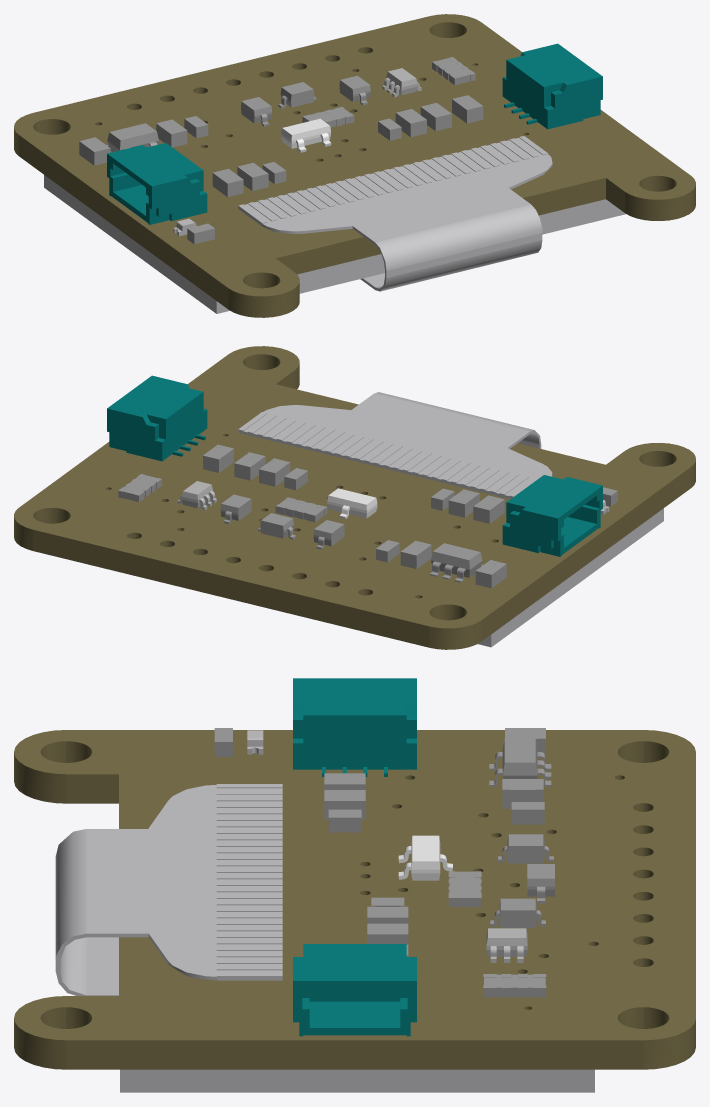
The model's file is ada-938.glb.
3 renders of one model, top to bottom at view 1: azimuth 30°, elevation 25°; view 2: azimuth 150°, elevation 25°; view 3: azimuth 270°, elevation 25°, orthographic. The views are drawn at different scales.
Visible parts, largest first — view 1: 0.16666666666666666_0.16666666666666666_0.08333333333333333_, 0.5833333333333334_0.5833333333333334_0.5833333333333334_0.8, 0_0.25_0.25_0, 0.3333333333333333_0.3333333333333333_0.3333333333333333_0, 0.9166666666666666_0.9166666666666666_0.9166666666666666_0.8, 0.5_0.5_0.5_0.85; view 2: 0.16666666666666666_0.16666666666666666_0.08333333333333333_, 0.5833333333333334_0.5833333333333334_0.5833333333333334_0.8, 0_0.25_0.25_0, 0.3333333333333333_0.3333333333333333_0.3333333333333333_0, 0.9166666666666666_0.9166666666666666_0.9166666666666666_0.8, 0.5_0.5_0.5_0.85; view 3: 0.16666666666666666_0.16666666666666666_0.08333333333333333_, 0.5833333333333334_0.5833333333333334_0.5833333333333334_0.8, 0_0.25_0.25_0, 0.3333333333333333_0.3333333333333333_0.3333333333333333_0, 0.9166666666666666_0.9166666666666666_0.9166666666666666_0.8, 0.5_0.5_0.5_0.85.
Boxes of the visible parts, <box> form: 0.16666666666666666_0.16666666666666666_0.08333333333333333_: <box>14,14,695,317</box>; 0.5833333333333334_0.5833333333333334_0.5833333333333334_0.8: <box>44,136,625,313</box>; 0_0.25_0.25_0: <box>107,43,602,224</box>; 0.3333333333333333_0.3333333333333333_0.3333333333333333_0: <box>79,57,483,244</box>; 0.9166666666666666_0.9166666666666666_0.9166666666666666_0.8: <box>281,118,331,152</box>; 0.5_0.5_0.5_0.85: <box>382,68,421,97</box>; 0.16666666666666666_0.16666666666666666_0.08333333333333333_: <box>14,346,695,649</box>; 0.5833333333333334_0.5833333333333334_0.5833333333333334_0.8: <box>238,392,663,647</box>; 0_0.25_0.25_0: <box>107,375,602,556</box>; 0.3333333333333333_0.3333333333333333_0.3333333333333333_0: <box>118,444,617,588</box>; 0.9166666666666666_0.9166666666666666_0.9166666666666666_0.8: <box>327,488,377,519</box>; 0.5_0.5_0.5_0.85: <box>177,481,216,510</box>; 0.16666666666666666_0.16666666666666666_0.08333333333333333_: <box>14,730,695,1069</box>; 0.5833333333333334_0.5833333333333334_0.5833333333333334_0.8: <box>55,730,594,1092</box>; 0_0.25_0.25_0: <box>293,678,416,1036</box>; 0.3333333333333333_0.3333333333333333_0.3333333333333333_0: <box>214,728,554,997</box>; 0.9166666666666666_0.9166666666666666_0.9166666666666666_0.8: <box>398,835,452,880</box>; 0.5_0.5_0.5_0.85: <box>486,928,527,962</box>.
Bounding box in the file's own units: 3.56 × 0.6526 × 3.3.
